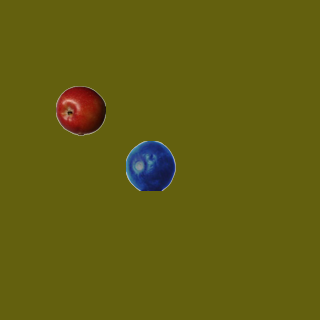Apple Braeburn: (55, 85, 105, 135)
Huckleberry: (125, 140, 175, 190)
